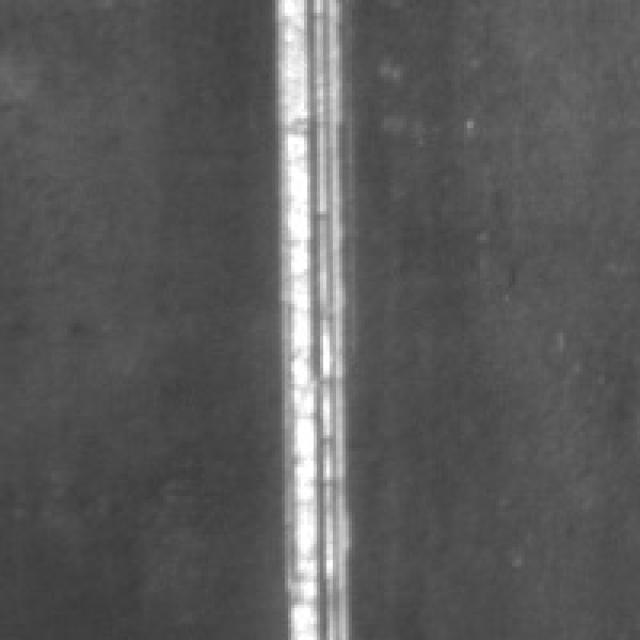scratches: (272, 0, 371, 634)
